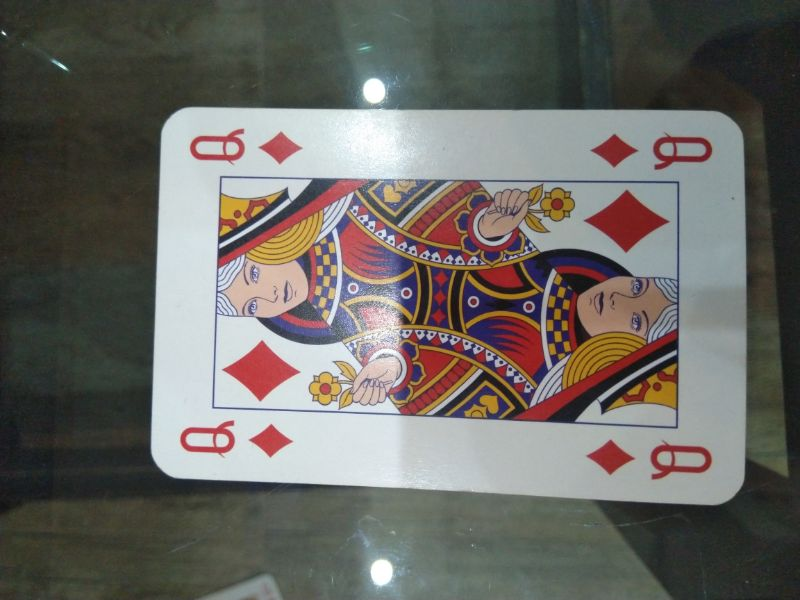Qd: (580, 429, 719, 489), (587, 125, 718, 177), (185, 121, 308, 173), (177, 414, 299, 464)
